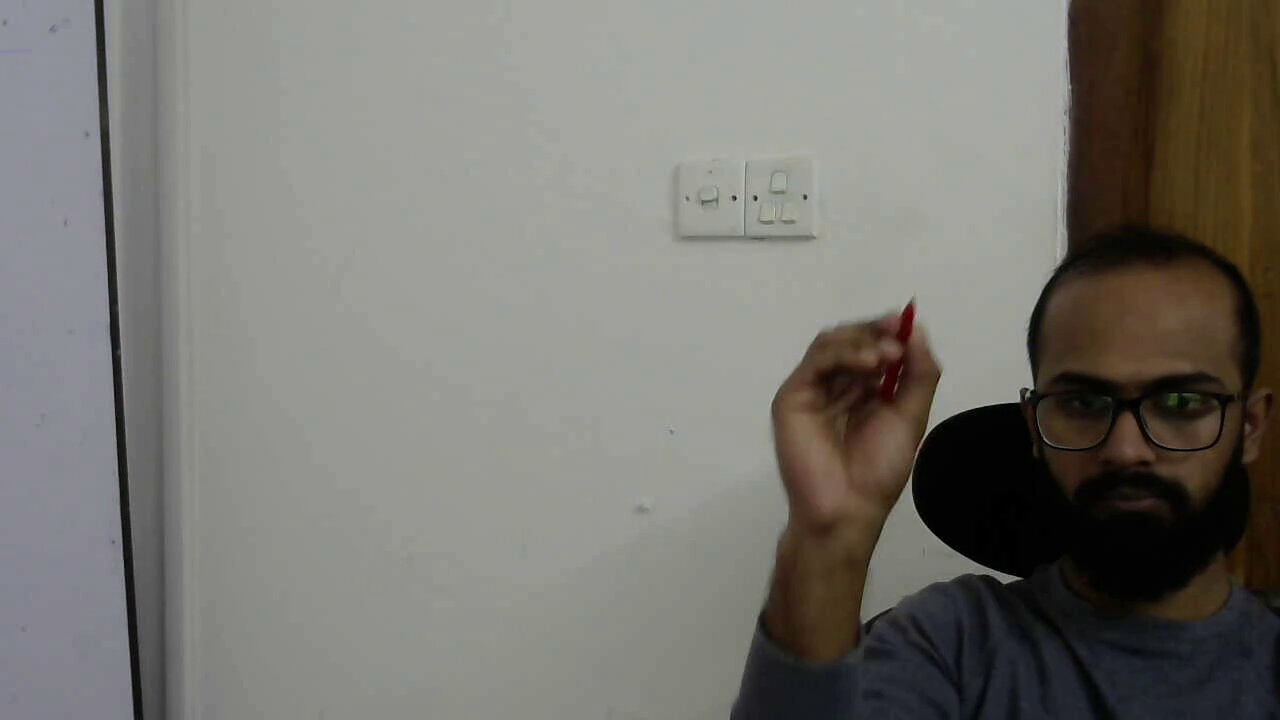pointer: (778, 309, 941, 452)
